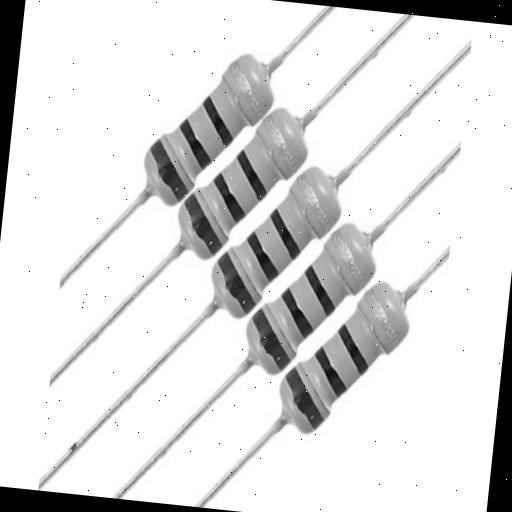RESISTOR: (152, 84, 360, 277), (230, 264, 435, 456), (102, 26, 295, 228), (195, 152, 372, 333), (231, 223, 387, 378)
